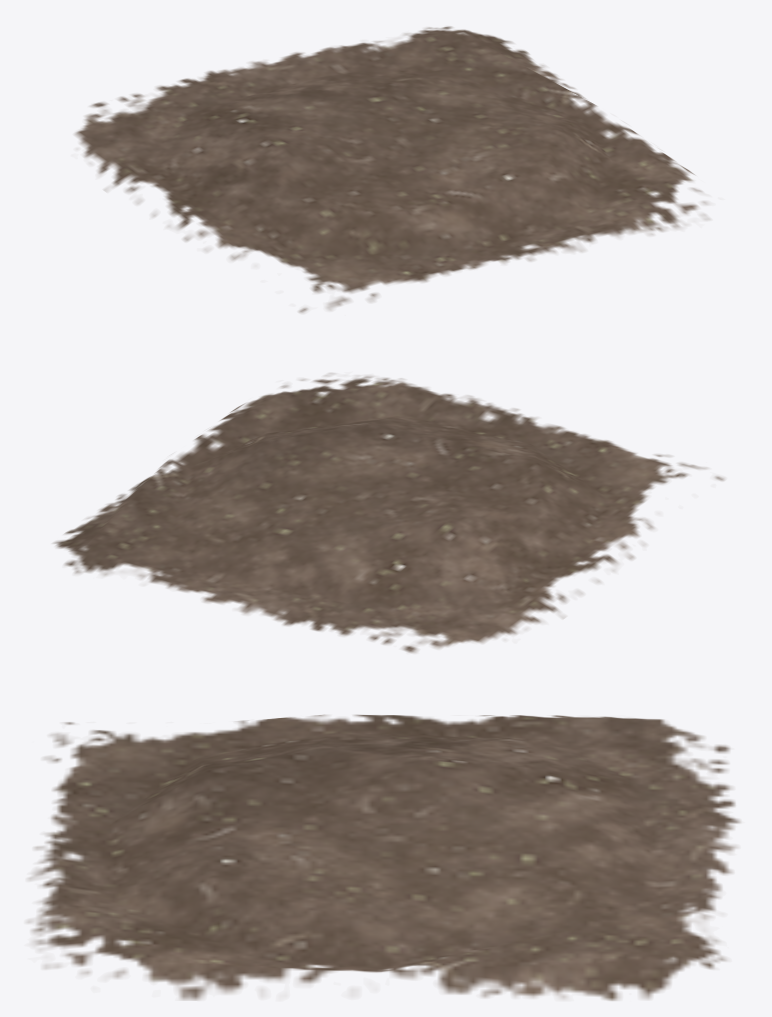
Rendered from soil_flat_dry.gltf.
3 renders of one model, top to bottom at view 1: azimuth 30°, elevation 25°; view 2: azimuth 150°, elevation 25°; view 3: azimuth 270°, elevation 25°, orthographic. The views are drawn at different scales.
Visible parts, largest first — view 1: soil_flat_wet2; view 2: soil_flat_wet2; view 3: soil_flat_wet2.
Part boxes in pixels (left/top/right/bottom): soil_flat_wet2: left=74, top=26, right=710, bottom=312; soil_flat_wet2: left=53, top=373, right=724, bottom=652; soil_flat_wet2: left=27, top=714, right=740, bottom=1000.
Size of what is drawn, in the model's own units: 0.8529 by 0.0614 by 0.9308.
1 material, 1 textured.
